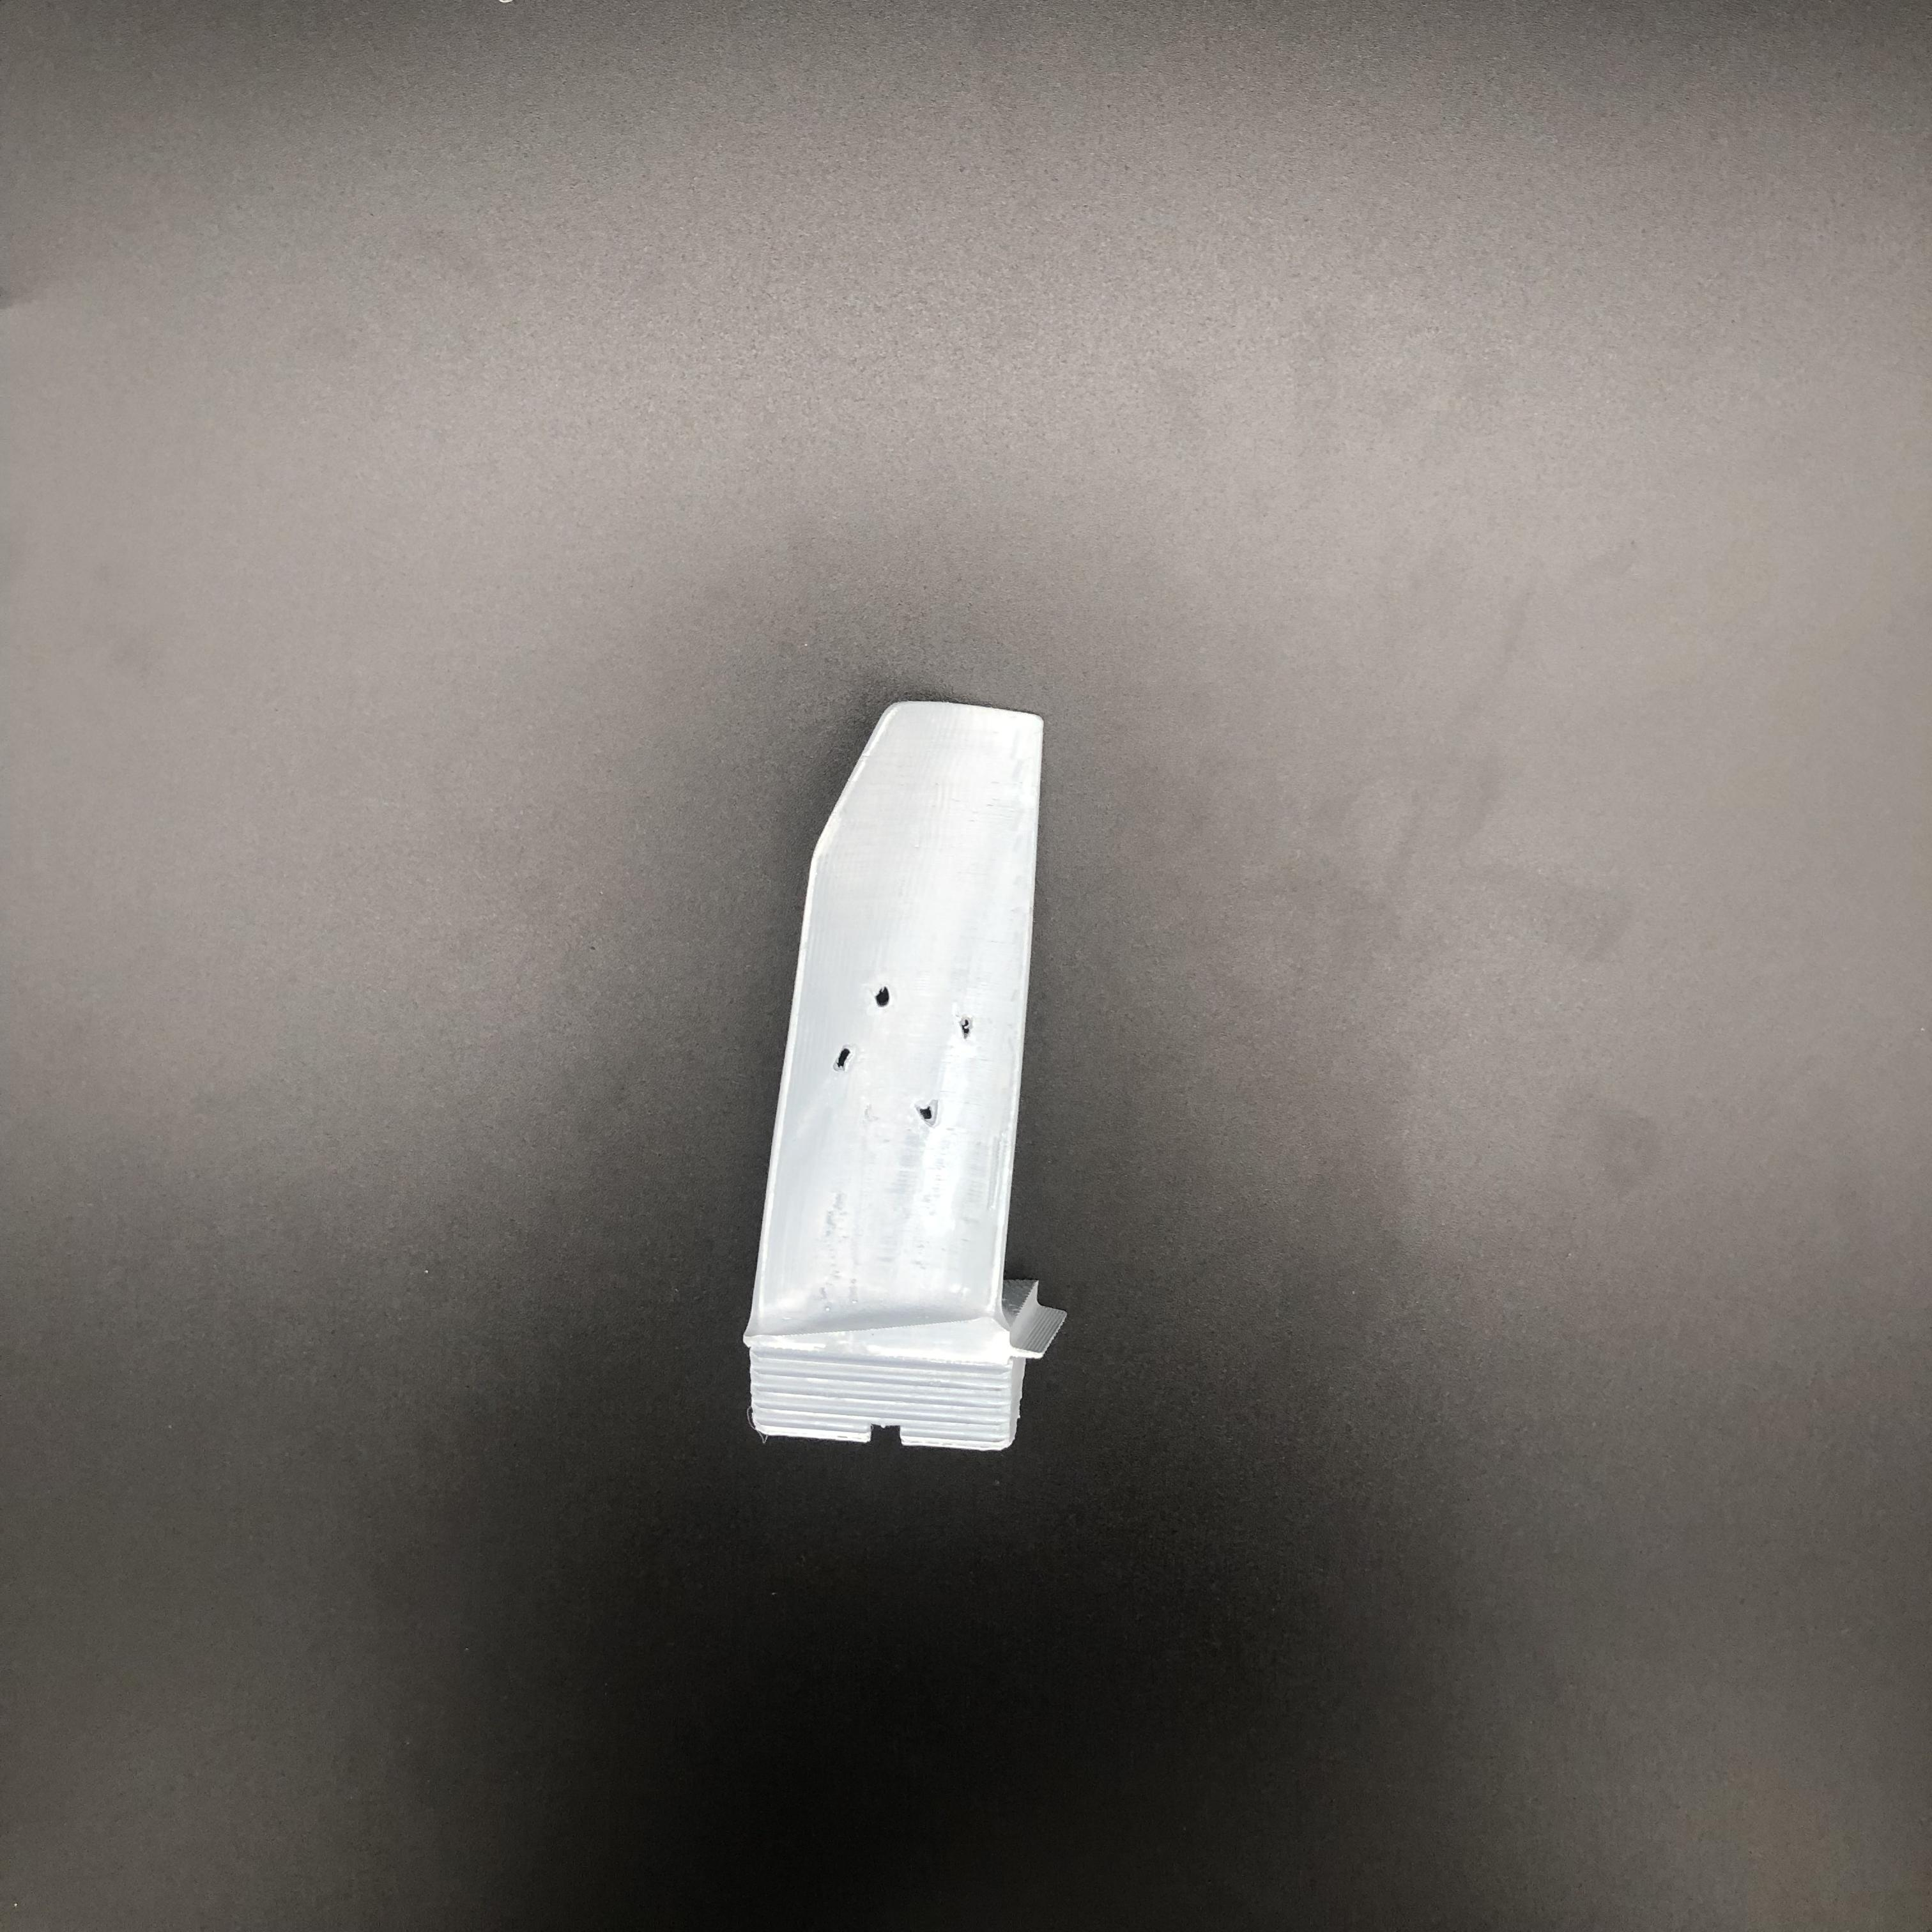breakdown: (830, 984, 975, 1120)
